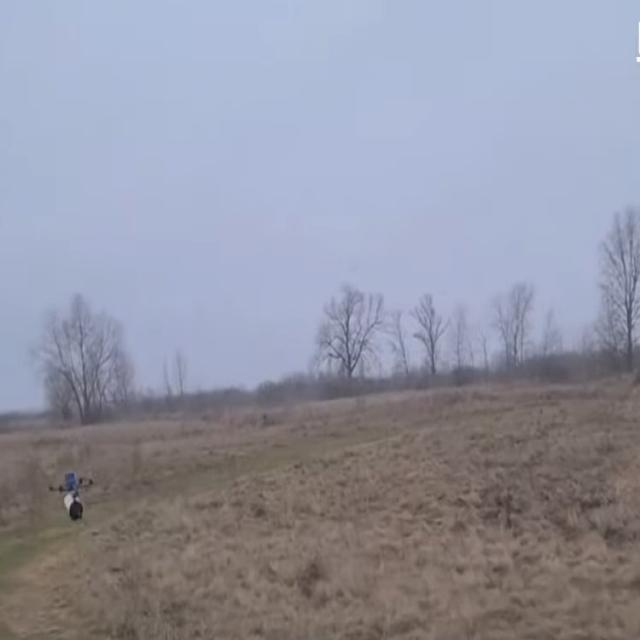drone: (44, 468, 97, 525)
